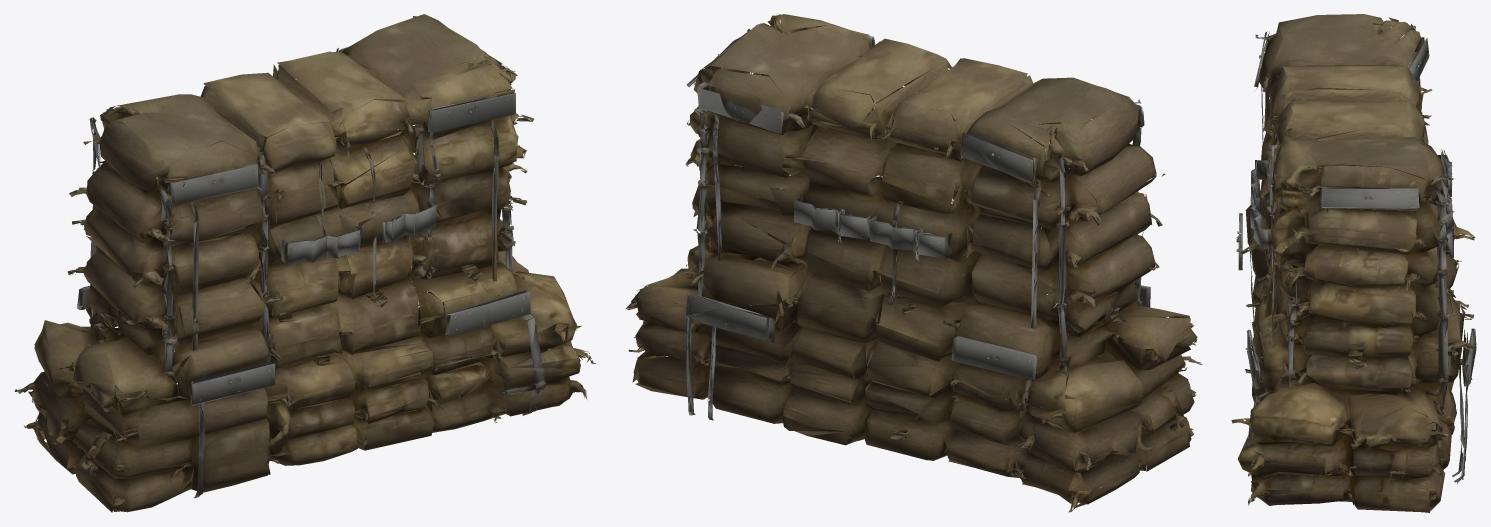
File: ch5_meridian_cover_barricade_LOD1.glb
3 views of the same model, side by side, from view 1: azimuth 30°, elevation 25°; view 2: azimuth 150°, elevation 25°; view 3: azimuth 270°, elevation 25° (orthographic). The views are drawn at different scales.
Visible parts, largest first — view 1: tripo_node_fae5ff56-c19d-4cb0-980b-bed445a09fcc; view 2: tripo_node_fae5ff56-c19d-4cb0-980b-bed445a09fcc; view 3: tripo_node_fae5ff56-c19d-4cb0-980b-bed445a09fcc.
Boxes of the visible parts, left/top/right/bottom form: tripo_node_fae5ff56-c19d-4cb0-980b-bed445a09fcc: left=14, top=14, right=595, bottom=512; tripo_node_fae5ff56-c19d-4cb0-980b-bed445a09fcc: left=625, top=14, right=1202, bottom=512; tripo_node_fae5ff56-c19d-4cb0-980b-bed445a09fcc: left=1231, top=14, right=1476, bottom=512.
Bounding box in the file's own units: 1 × 0.683 × 0.4669.
1 material, 1 textured.
